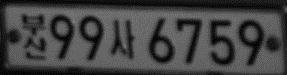5: (209, 19, 236, 65)
6: (148, 17, 174, 63)
7: (176, 17, 203, 63)
9: (237, 18, 264, 65), (49, 13, 74, 59), (78, 14, 103, 60)
부산_V: (21, 12, 47, 60)
사: (110, 19, 135, 58)
